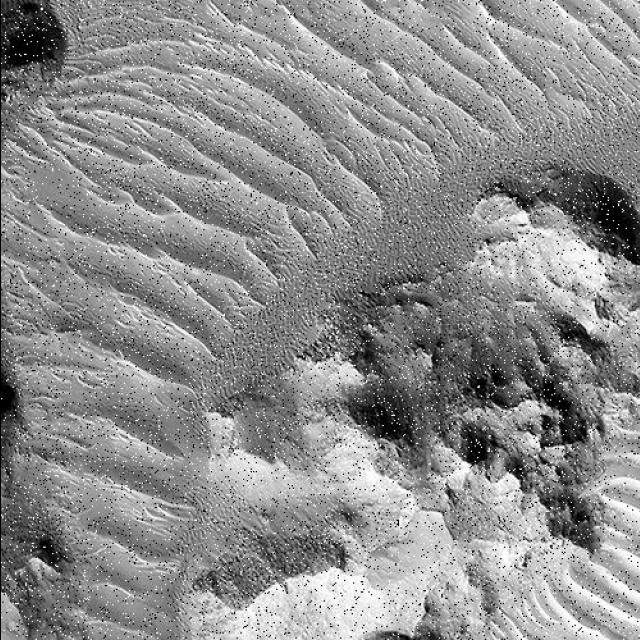crater: (0, 267, 83, 514)
